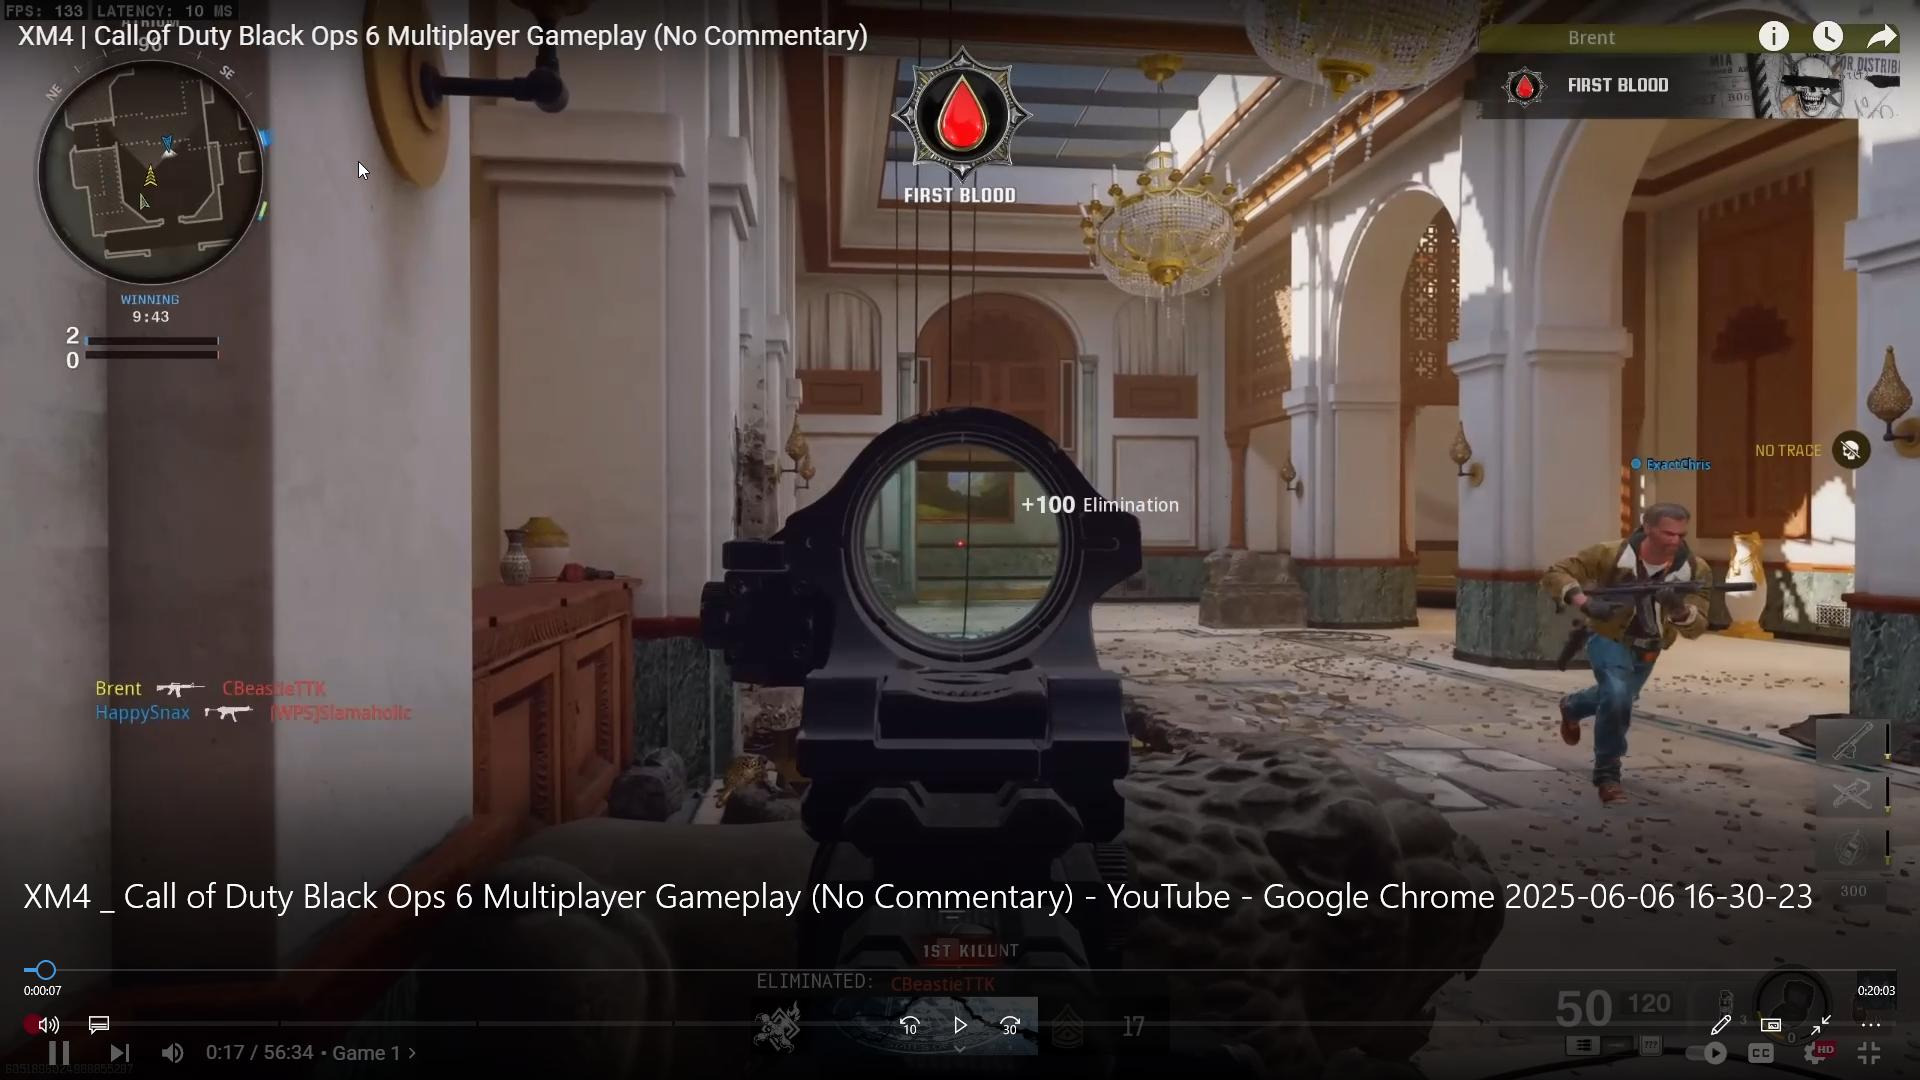Enemy: (1520, 484, 1754, 818)
